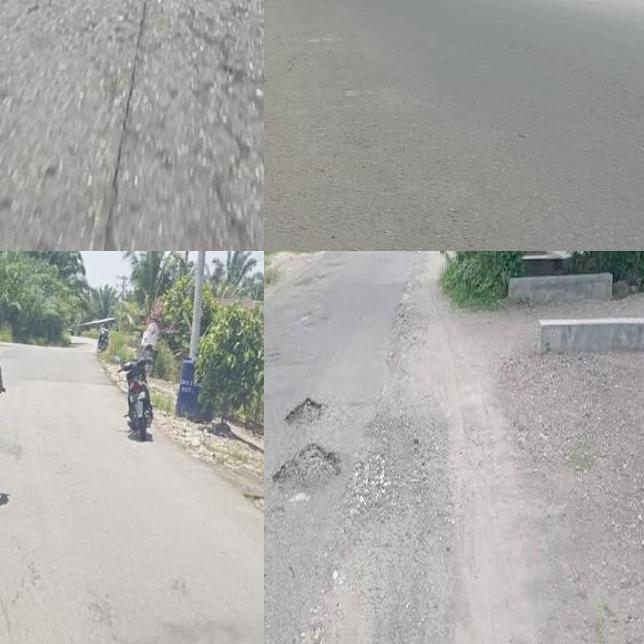Lubang: (274, 452, 334, 484), (282, 398, 326, 424)
Retak Buaya: (190, 0, 264, 251)
